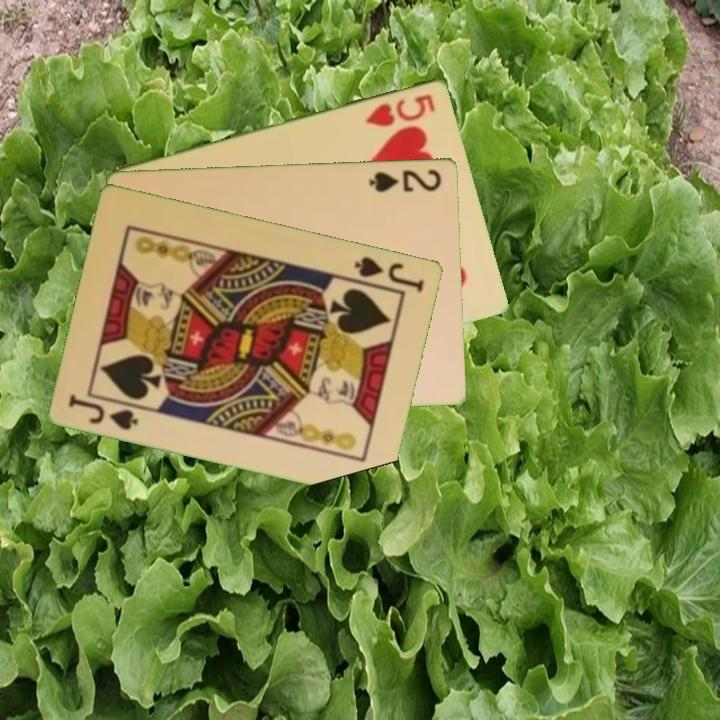2s: (366, 165, 445, 195)
5h: (362, 90, 439, 129)
Js: (351, 253, 428, 296), (66, 390, 142, 433)
